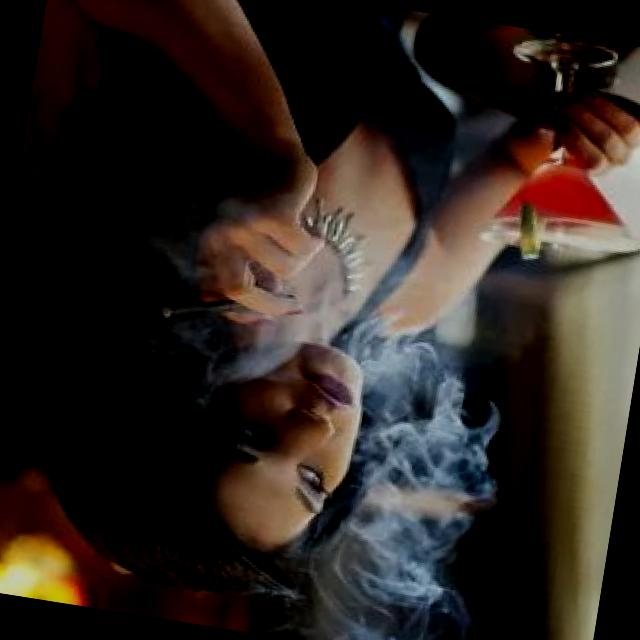cigarette: (151, 266, 305, 346)
